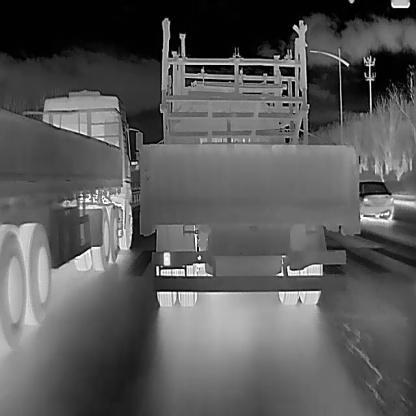car: (138, 69, 359, 306), (0, 89, 143, 352), (355, 180, 394, 222)
